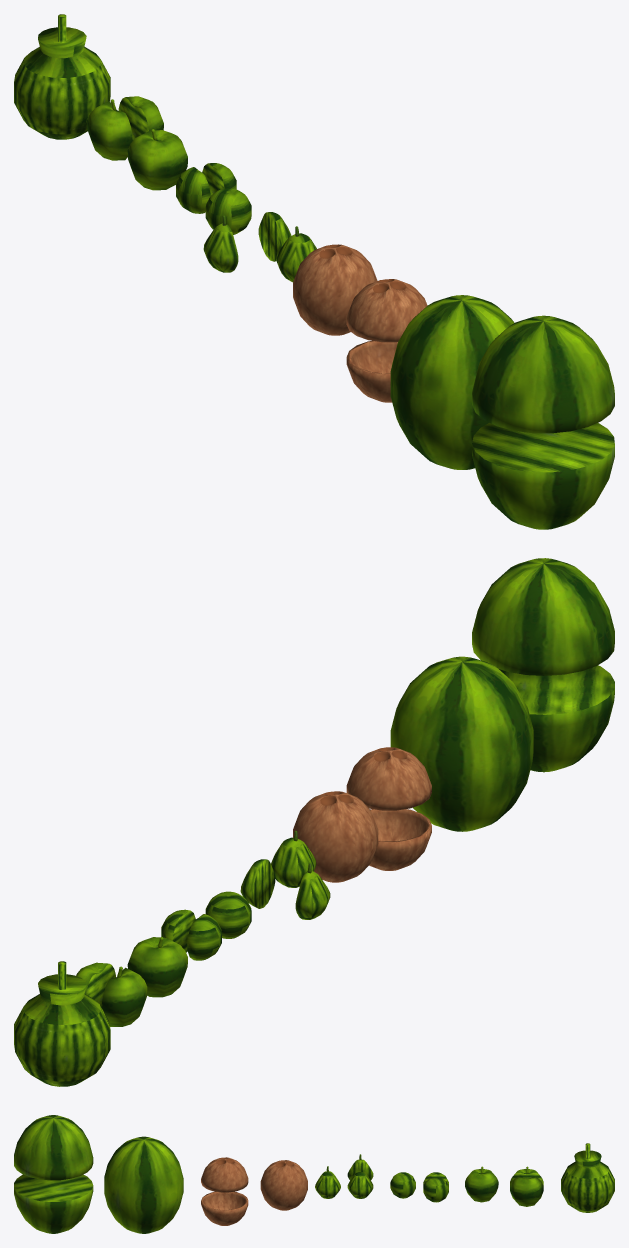
File: FruitNinja.fbx
The picture shows the model from 3 angles, top to bottom: view 1: azimuth 30°, elevation 25°; view 2: azimuth 150°, elevation 25°; view 3: azimuth 270°, elevation 25°; orthographic projection. The views are drawn at different scales.
Visible parts, largest first — view 1: Watermelon, WatermelonUp, WaterMelonDown, Bomb, Coconut, CoconutUp, Apple, CoconutDown, AppleUp, Orange, PearUp, AppleDown (+4 smaller); view 2: Watermelon, WatermelonUp, Bomb, WaterMelonDown, Coconut, CoconutUp, CoconutDown, Apple, AppleUp, Pear, Orange, PearUp (+4 smaller); view 3: Watermelon, WatermelonUp, WaterMelonDown, Bomb, Coconut, CoconutUp, CoconutDown, Apple, AppleDown, Orange, Pear, PearDown (+3 smaller).
Part boxes in pixels (x1,y1,x2,y2): Watermelon: (390,295,514,469); WatermelonUp: (472,315,614,433); WaterMelonDown: (472,423,614,529); Bomb: (14,14,110,139); Coconut: (293,244,377,335); CoconutUp: (346,279,427,342); Apple: (127,129,187,190); CoconutDown: (346,340,397,402); AppleUp: (87,99,132,160); Orange: (205,188,251,234); PearUp: (203,215,238,272); AppleDown: (118,96,163,140); Watermelon: (390,656,533,831); WatermelonUp: (472,558,614,675); Bomb: (14,961,110,1086); WaterMelonDown: (499,665,614,772); Coconut: (293,791,378,882); CoconutUp: (346,747,431,810); CoconutDown: (369,809,431,870); Apple: (127,937,187,997); AppleUp: (102,966,147,1026); Pear: (271,830,316,887); Orange: (205,891,251,938); PearUp: (295,863,330,919); Watermelon: (104,1136,183,1233); WatermelonUp: (14,1115,93,1180); WaterMelonDown: (14,1174,93,1233); Bomb: (561,1143,614,1212); Coconut: (260,1160,307,1210); CoconutUp: (201,1157,248,1192); CoconutDown: (201,1191,248,1225); Apple: (465,1166,498,1202); AppleDown: (510,1177,543,1206); Orange: (390,1172,415,1198); Pear: (315,1166,340,1198); PearDown: (347,1172,373,1198).
Bounding box in the file's own units: 198 × 310 × 1495.
